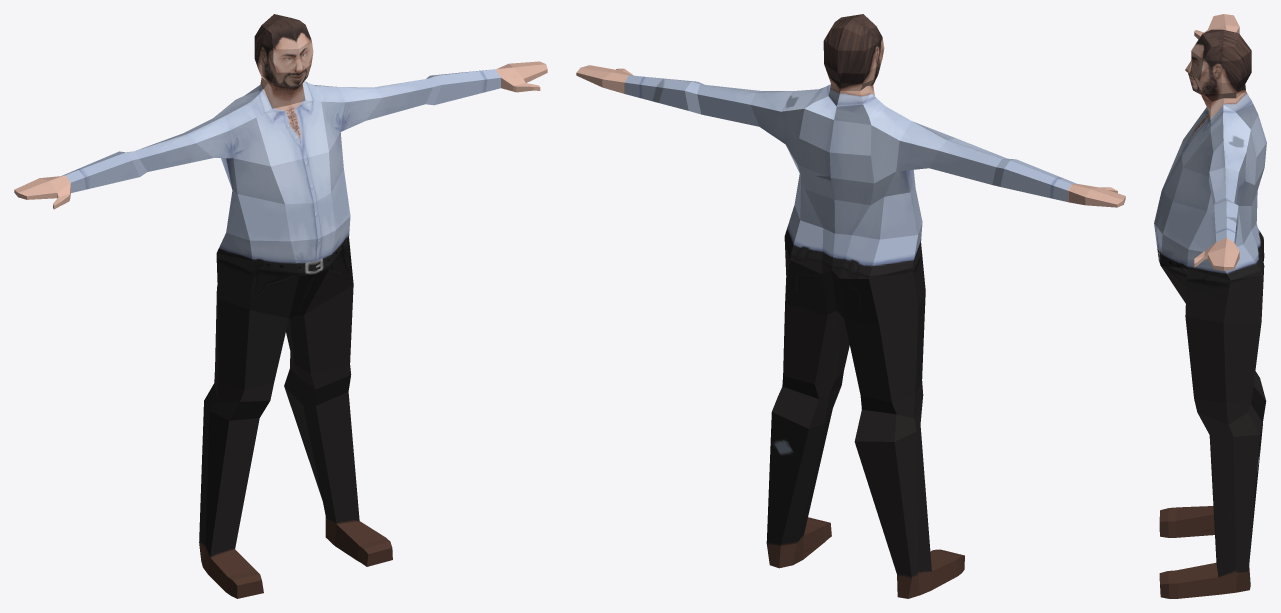
File: szef.glb
3 views of the same model, side by side, from view 1: azimuth 30°, elevation 25°; view 2: azimuth 150°, elevation 25°; view 3: azimuth 270°, elevation 25° (orthographic). The views are drawn at different scales.
Parts seen in each view (by area): view 1: Cube; view 2: Cube; view 3: Cube.
Boxes of the visible parts, x1=… form: Cube: x1=14, y1=14, x2=547, y2=598; Cube: x1=576, y1=14, x2=1125, y2=598; Cube: x1=1154, y1=14, x2=1266, y2=598.
Size of the model in its own units: 4.42 by 4.32 by 0.8344.
1 material, 1 textured.
